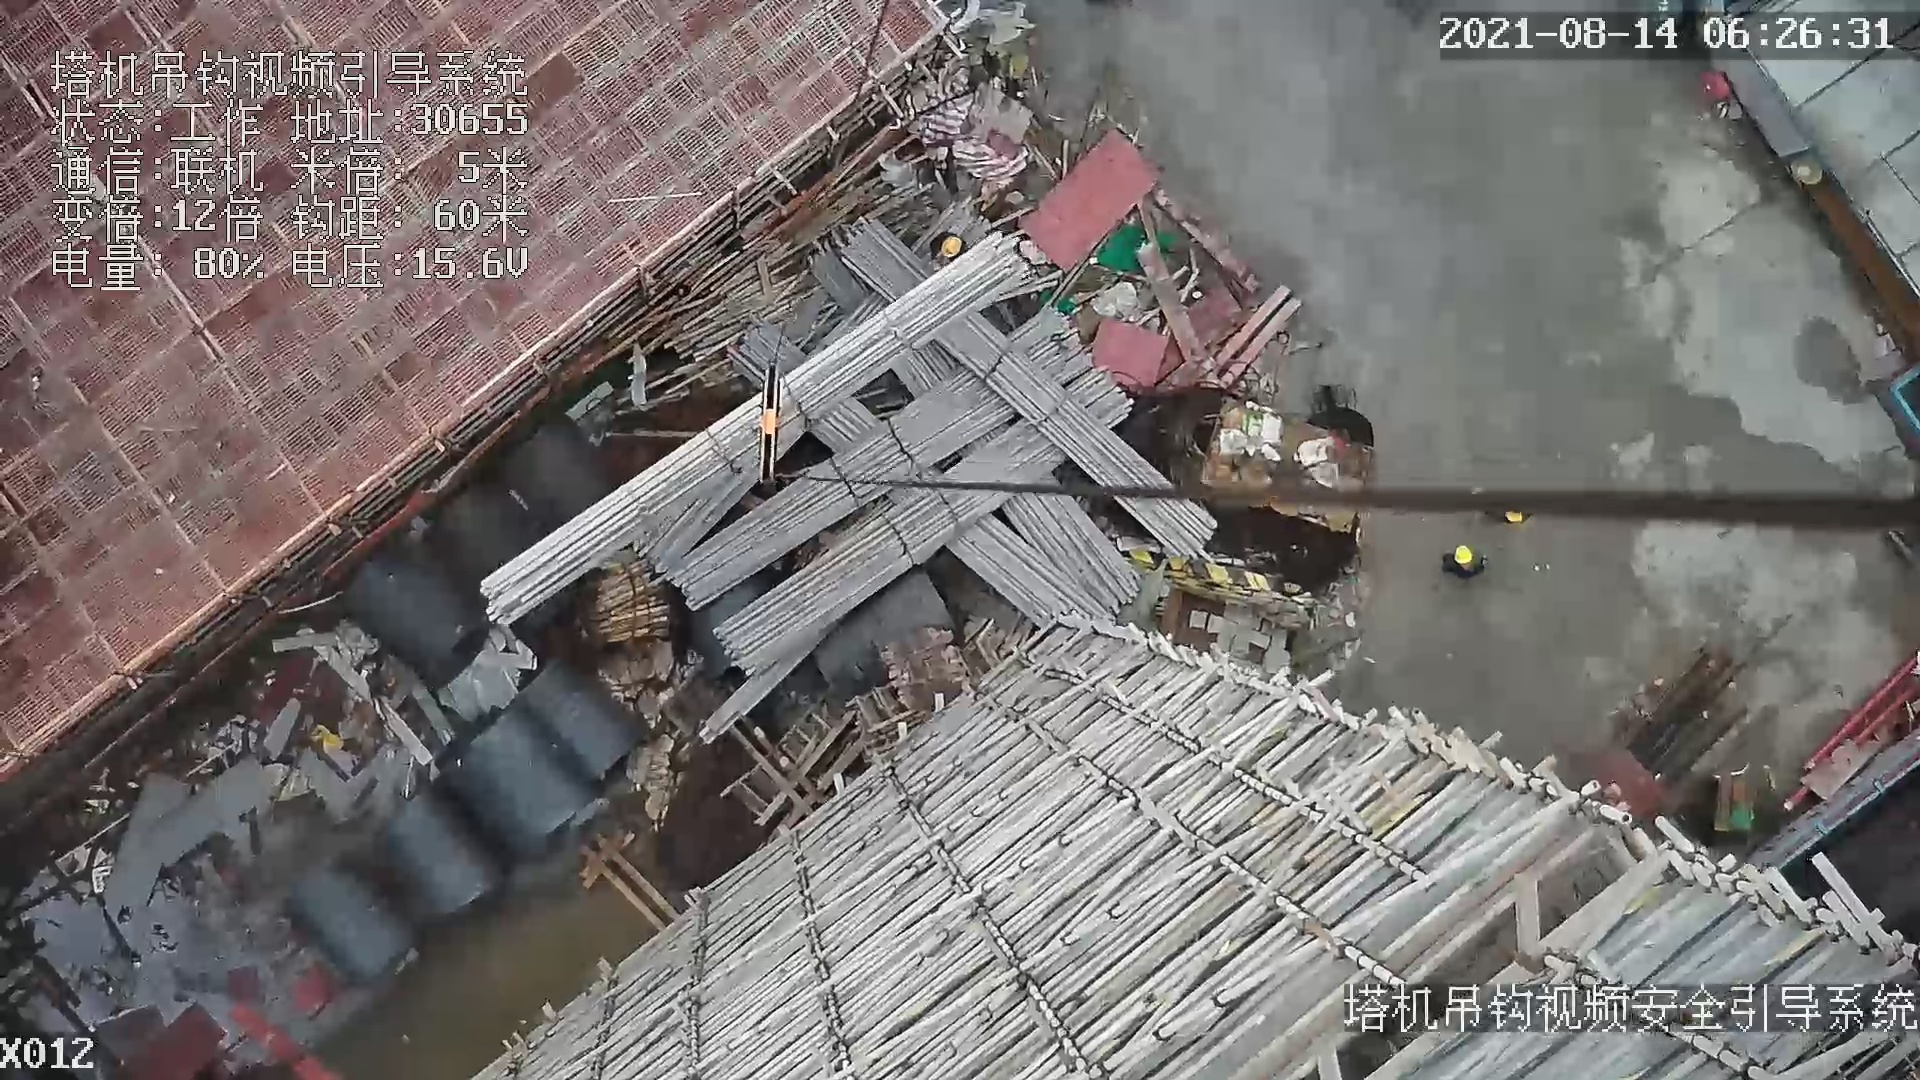helmet: (932, 235, 963, 256), (1455, 546, 1470, 563)
hook: (746, 359, 794, 487)
person: (917, 235, 979, 269), (1450, 542, 1486, 577)
